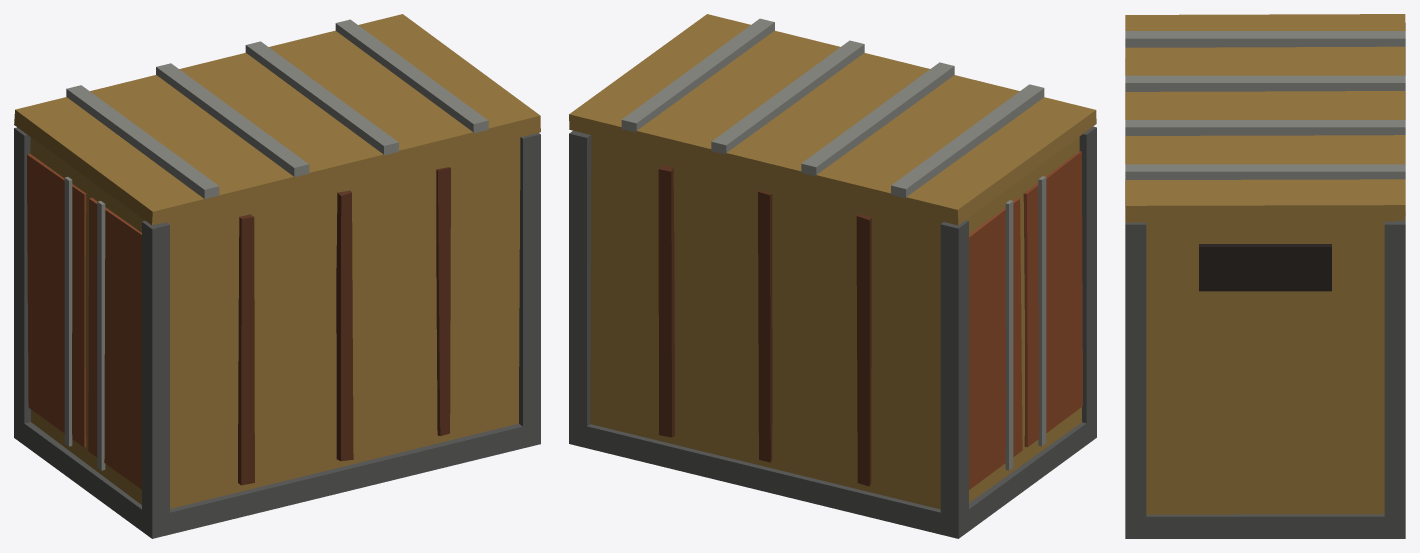
The model's file is cargo_trailer_box.glb.
3 views of the same model, side by side, from view 1: azimuth 30°, elevation 25°; view 2: azimuth 150°, elevation 25°; view 3: azimuth 270°, elevation 25° (orthographic).
Visible parts, largest first — view 1: cargo_trailer_box; view 2: cargo_trailer_box; view 3: cargo_trailer_box.
Boxes of the visible parts, x1=… form: cargo_trailer_box: x1=14, y1=14, x2=540, y2=538; cargo_trailer_box: x1=569, y1=14, x2=1096, y2=538; cargo_trailer_box: x1=1125, y1=14, x2=1405, y2=538.
Size of the model in its own units: 1.3 by 1.07 by 0.8.
